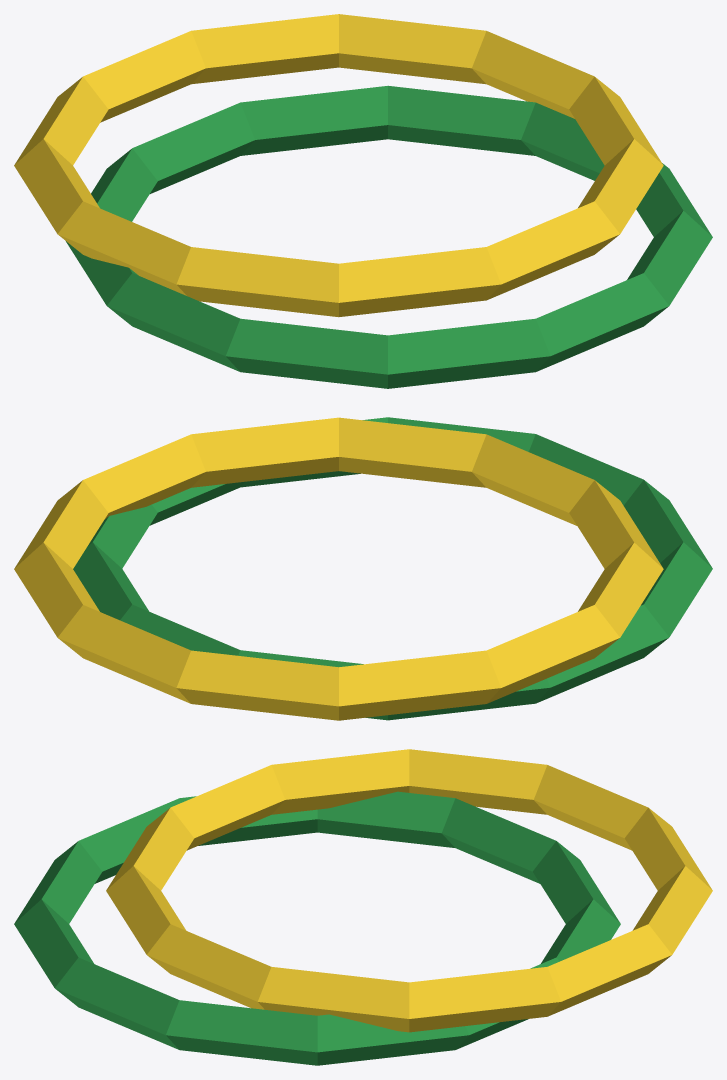
Rendered from resistance_band.fbx.
3 views of the same model, one above another, from view 1: azimuth 30°, elevation 25°; view 2: azimuth 150°, elevation 25°; view 3: azimuth 270°, elevation 25° (orthographic). The views are drawn at different scales.
Visible parts, largest first — view 1: resistance_band; view 2: resistance_band; view 3: resistance_band.
Part boxes in pixels (x1,y1,x2,y2): resistance_band: [14, 14, 712, 388]; resistance_band: [14, 417, 712, 720]; resistance_band: [14, 749, 712, 1065].
Bounding box in the file's own units: 0.33 × 0.05 × 0.38.
